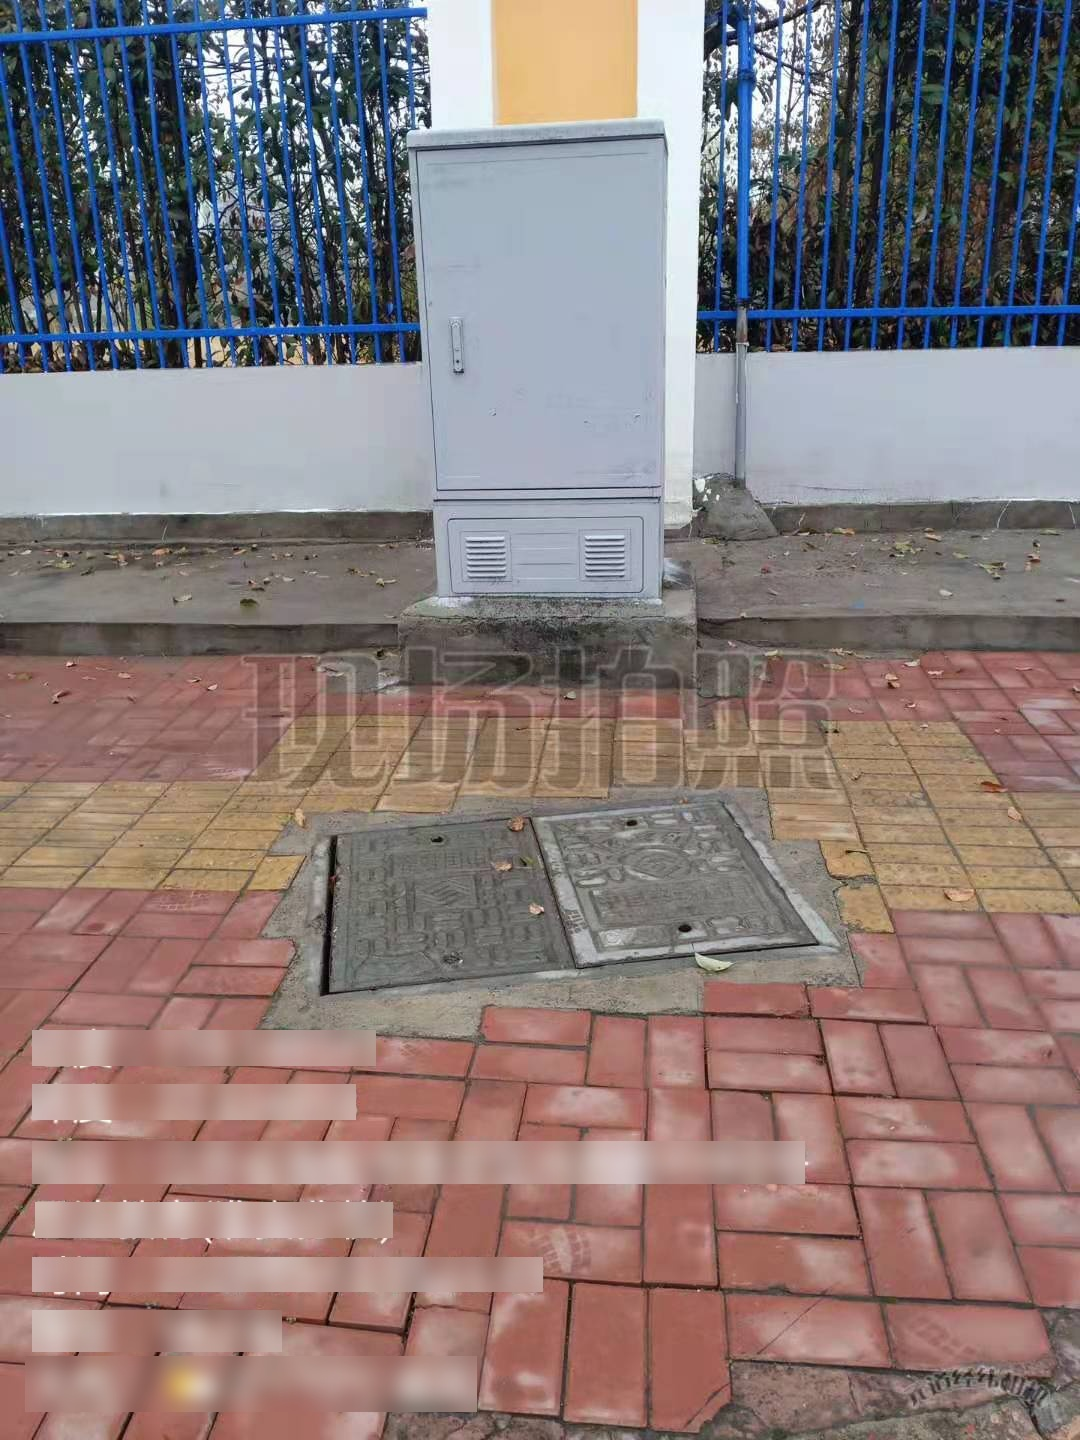well: (280, 795, 845, 1013)
